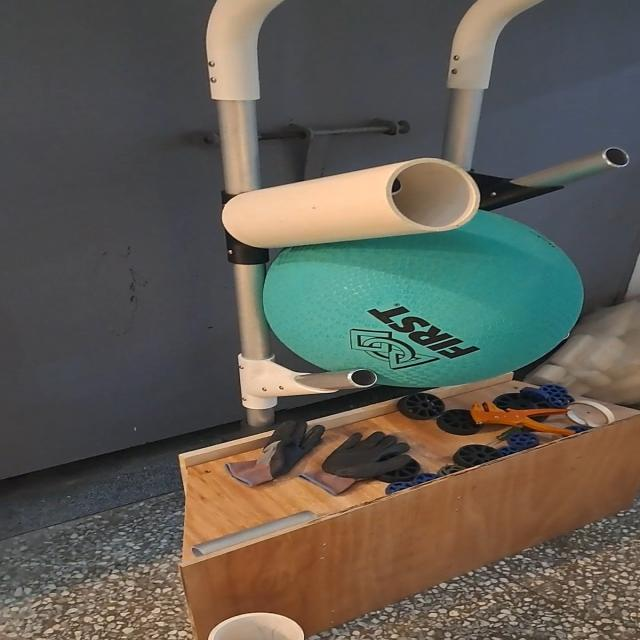ALGAE: (260, 206, 587, 390)
CORAL: (220, 156, 488, 252)
